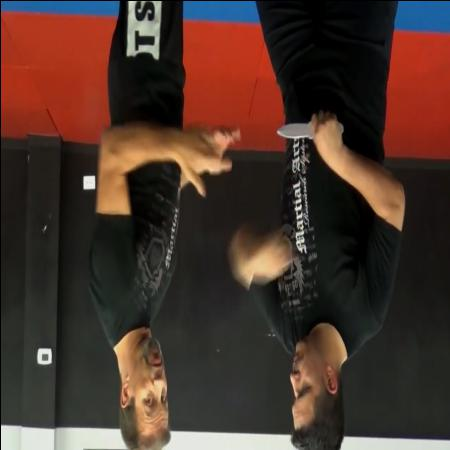long weapon: (273, 110, 345, 146)
